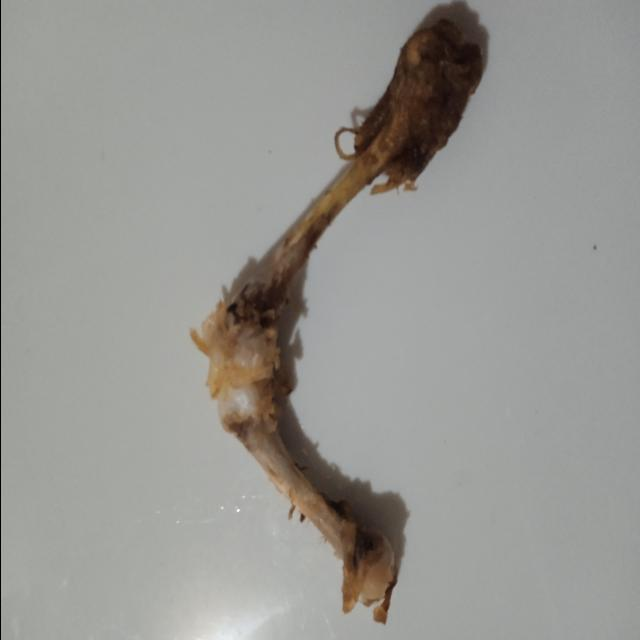bone: (179, 5, 502, 640)
